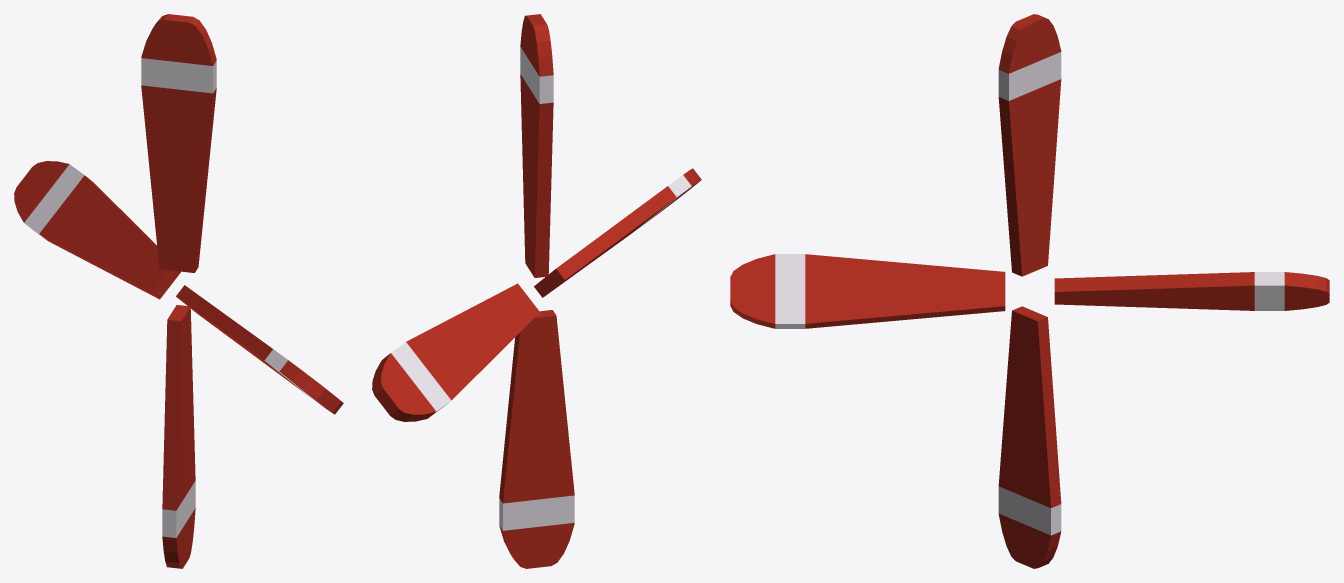
Rendered from Propeller2.fbx.
The picture shows the model from 3 angles, left to right: view 1: azimuth 30°, elevation 25°; view 2: azimuth 150°, elevation 25°; view 3: azimuth 270°, elevation 25°; orthographic projection.
Parts seen in each view (by area): view 1: Cube.003; view 2: Cube.003; view 3: Cube.003.
Boxes of the visible parts, x1,y1,x2,y2 form: Cube.003: (14, 14, 343, 568); Cube.003: (372, 14, 701, 568); Cube.003: (730, 14, 1329, 568).
Size of the model in its own units: 84.24 by 805 by 805.
